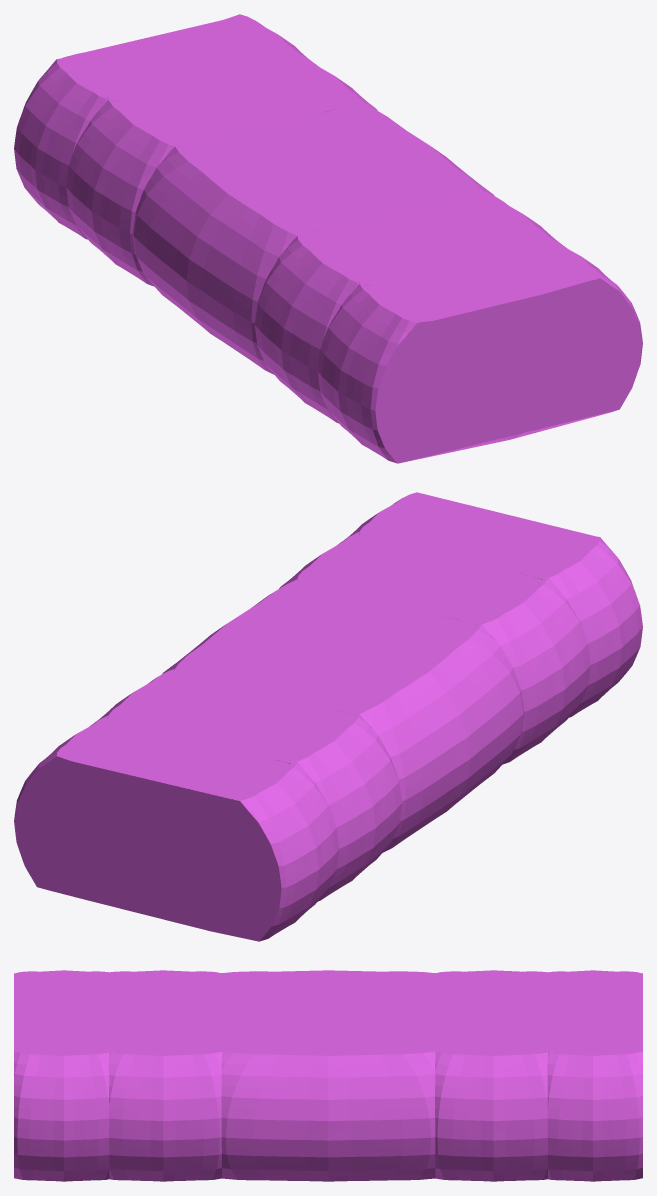
The model's file is hitboxes.glb.
3 views of the same model, one above another, from view 1: azimuth 30°, elevation 25°; view 2: azimuth 150°, elevation 25°; view 3: azimuth 270°, elevation 25° (orthographic). The views are drawn at different scales.
Parts seen in each view (by area): view 1: hitbox rabo, hitbox centro, hitbox peito, hitbox perna, hitbox cabeça; view 2: hitbox cabeça, hitbox centro, hitbox perna, hitbox peito, hitbox rabo; view 3: hitbox centro, hitbox perna, hitbox peito, hitbox cabeça, hitbox rabo.
Boxes of the visible parts, box(x1,y1,x2,y2) form: hitbox rabo: box(317, 236, 642, 463); hitbox centro: box(132, 100, 494, 374); hitbox peito: box(66, 51, 377, 286); hitbox perna: box(254, 190, 561, 423); hitbox cabeça: box(14, 14, 311, 239); hitbox cabeça: box(14, 714, 339, 941); hitbox centro: box(162, 578, 524, 852); hitbox perna: box(279, 530, 590, 764); hitbox peito: box(95, 668, 402, 901); hitbox rabo: box(345, 492, 642, 717); hitbox centro: box(218, 970, 438, 1181); hitbox perna: box(103, 970, 223, 1181); hitbox peito: box(433, 970, 553, 1181); hitbox cabeça: box(542, 970, 642, 1181); hitbox rabo: box(14, 970, 114, 1181).
Bounding box in the file's own units: 1.86 × 0.8747 × 4.09.
